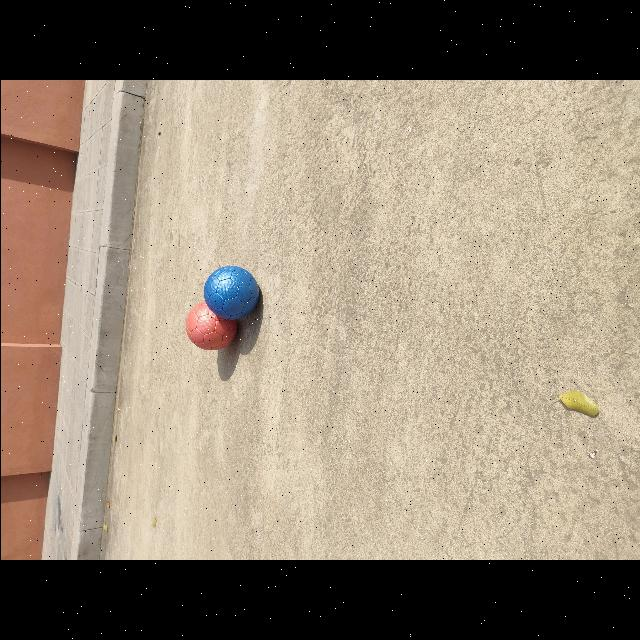B: (203, 266, 258, 320)
R: (184, 302, 236, 350)
